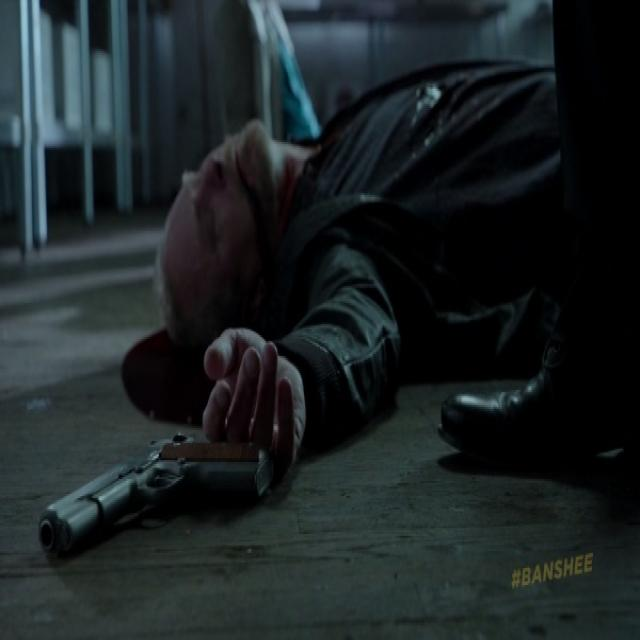weapons: (22, 394, 300, 598)
